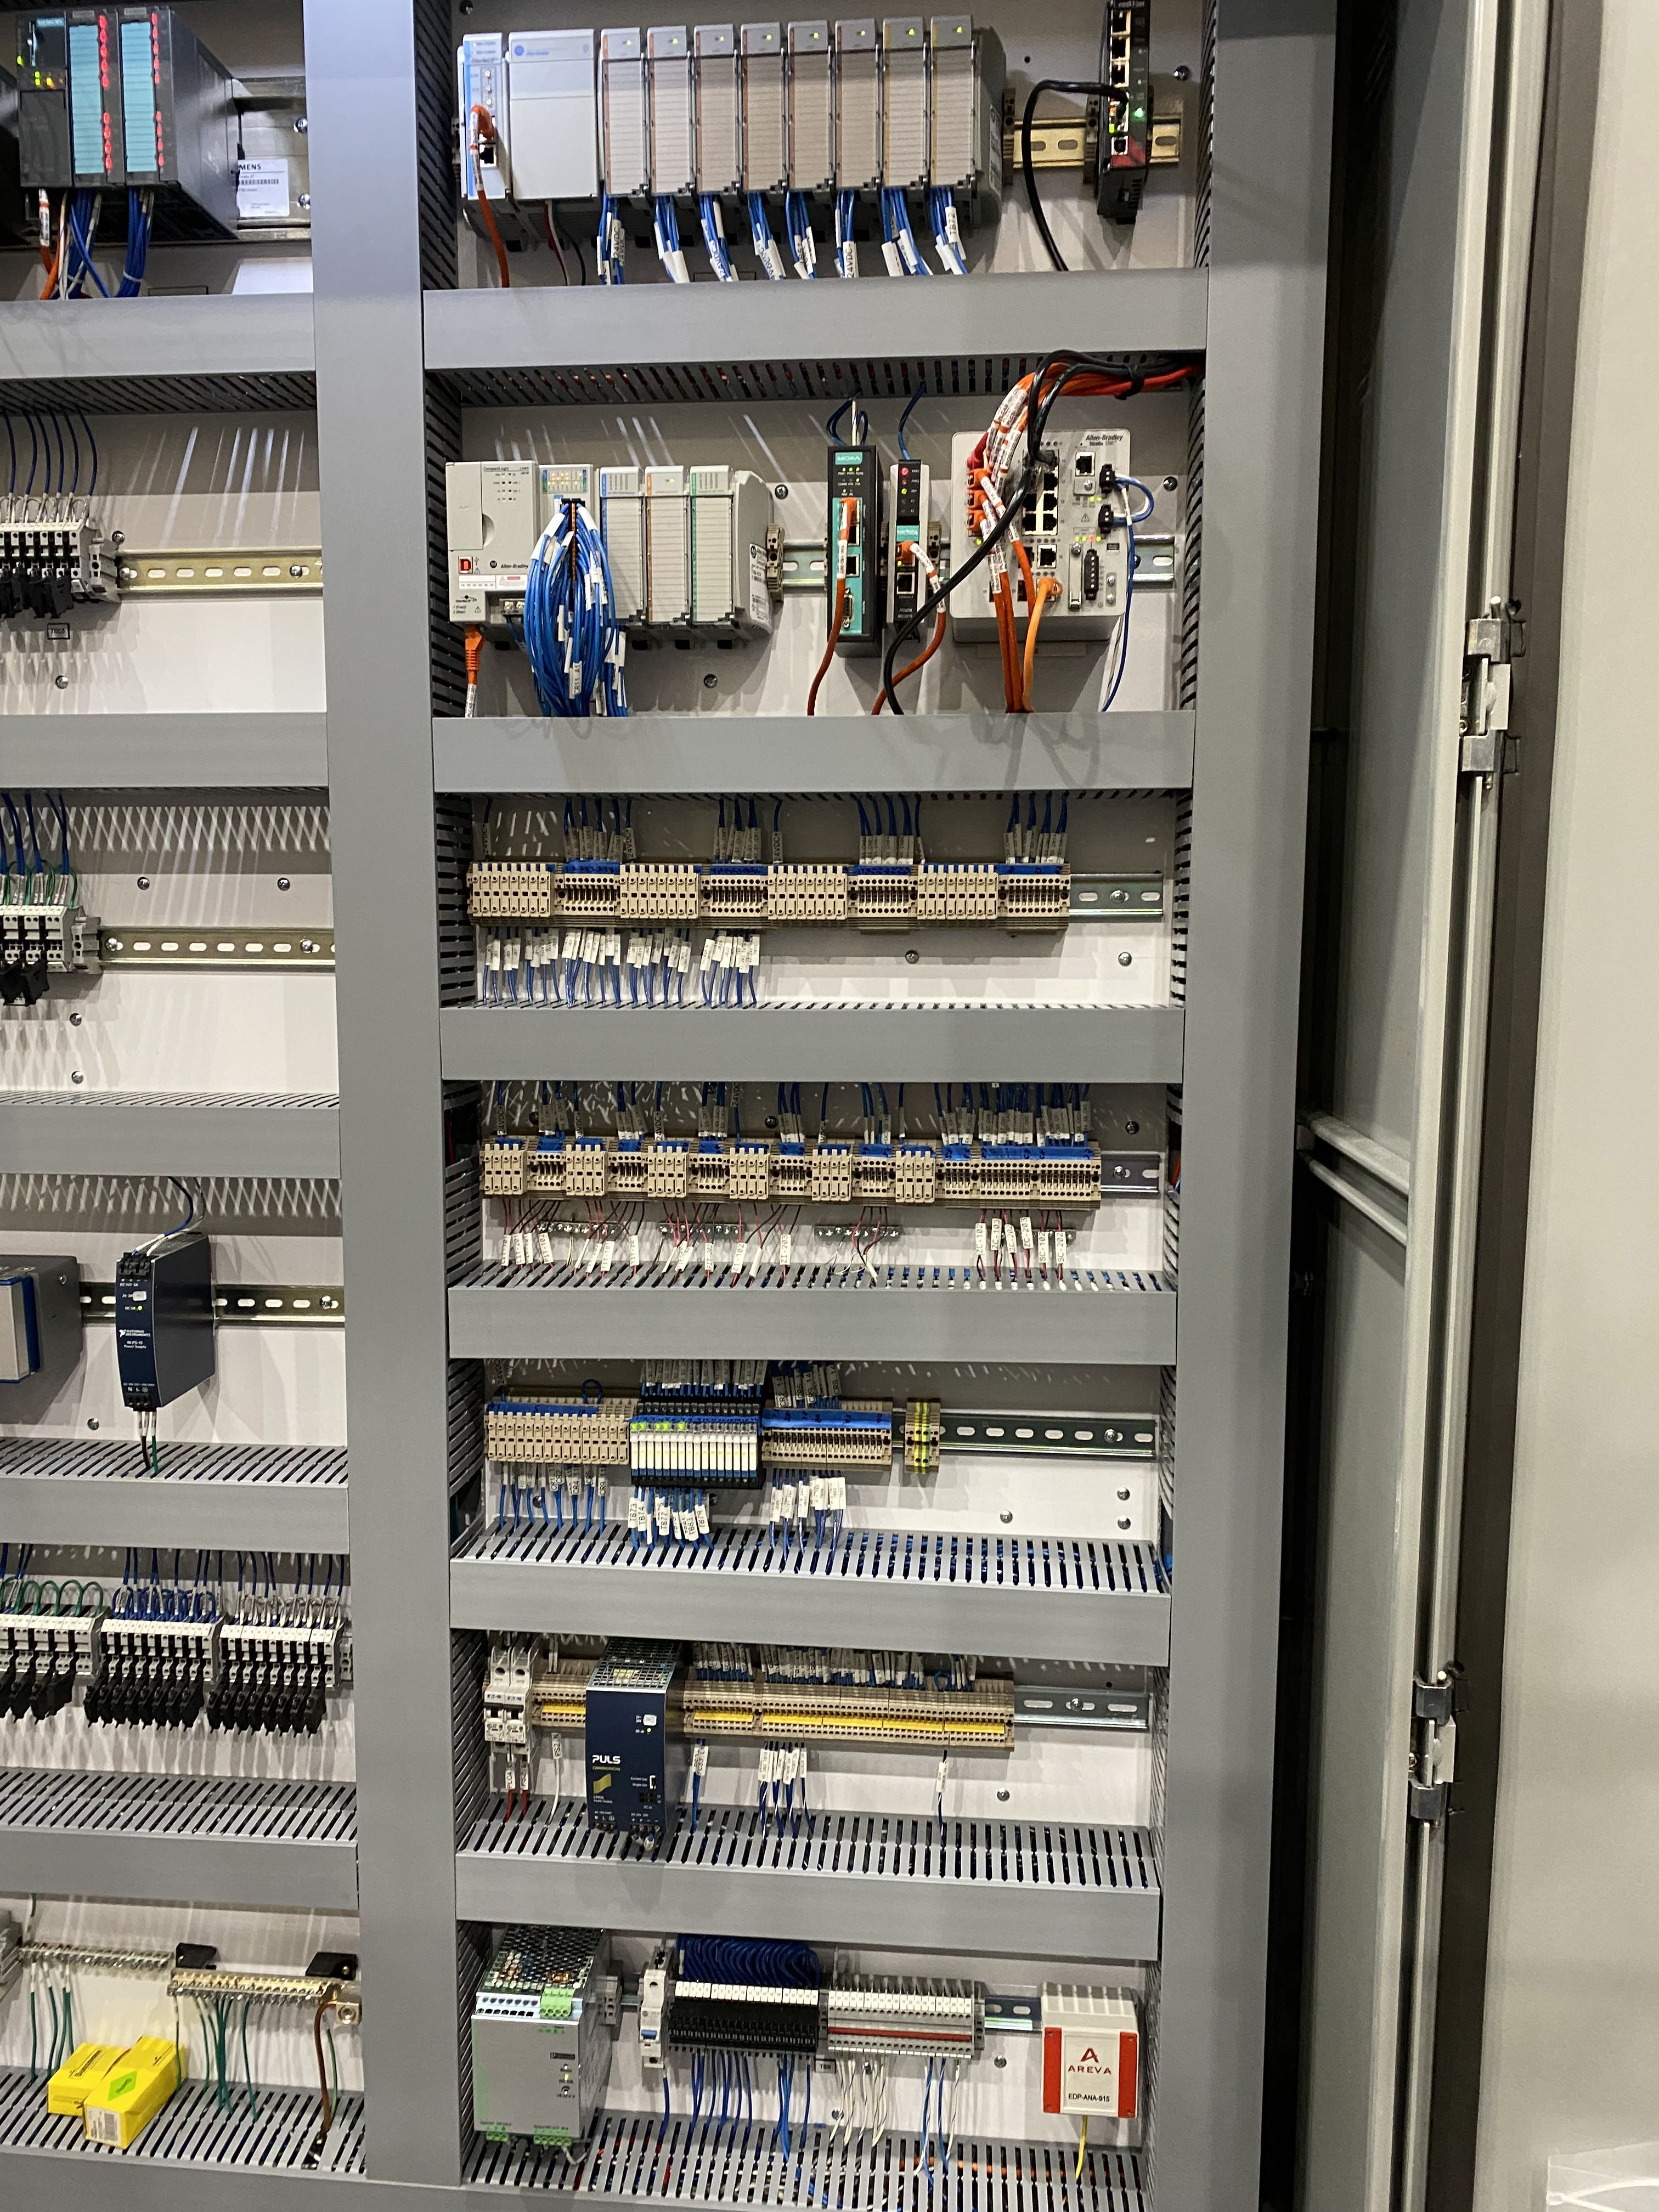AllenBradley: (444, 462, 540, 631)
